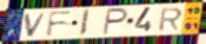4: (133, 6, 155, 35)
F: (45, 10, 74, 38)
I: (78, 8, 91, 37)
P: (101, 7, 129, 37)
R: (157, 7, 184, 33)
V: (23, 11, 49, 38)
